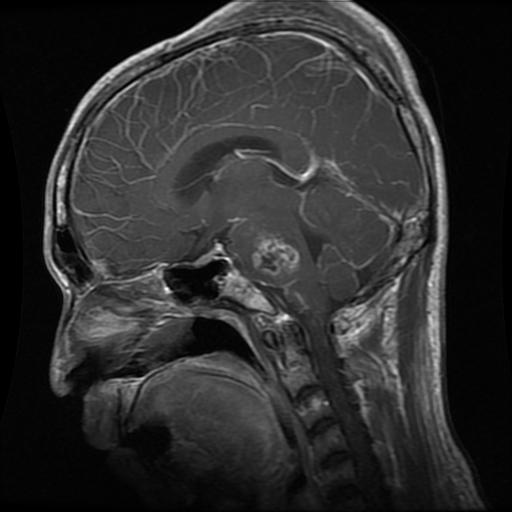Gliomia_tumour: (252, 231, 302, 278)
